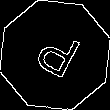P_SW: (27, 24, 83, 86)
